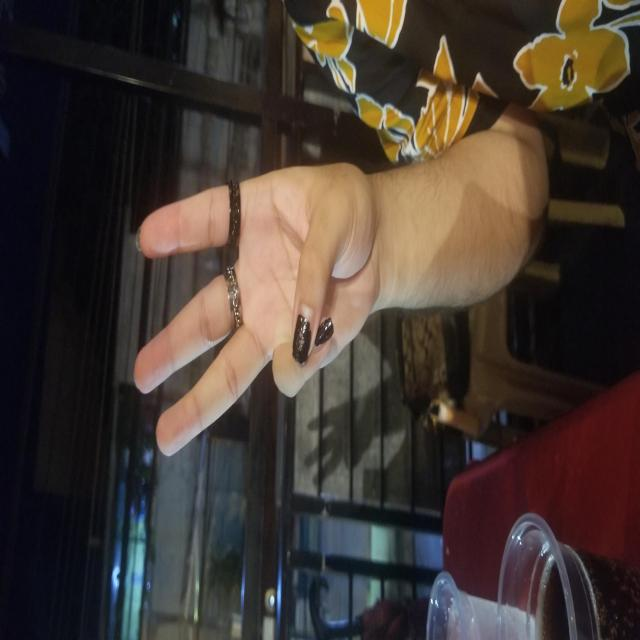W: (174, 133, 478, 373)
